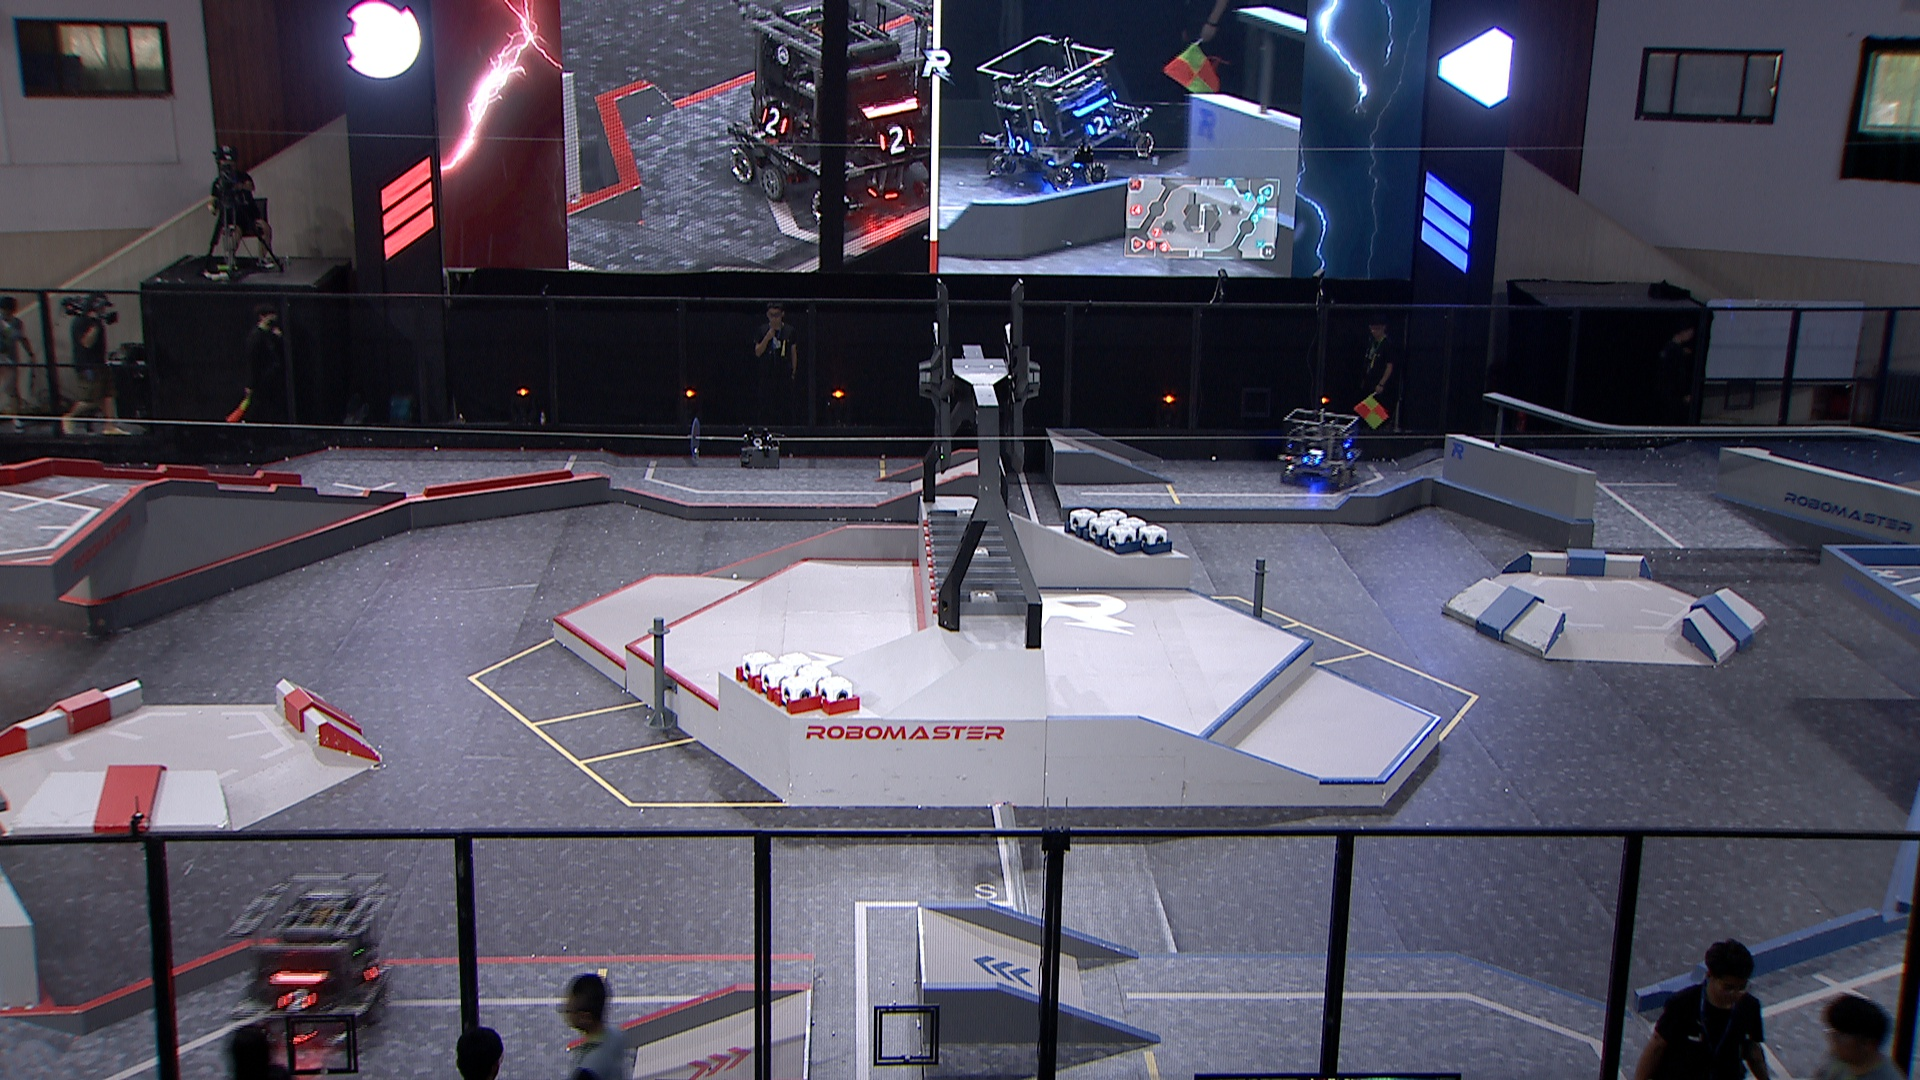armor: (278, 986, 318, 1011), (1302, 454, 1324, 469)
car: (231, 870, 392, 1040), (1276, 400, 1361, 491)
ignore: (719, 0, 942, 219), (972, 26, 1150, 196)
